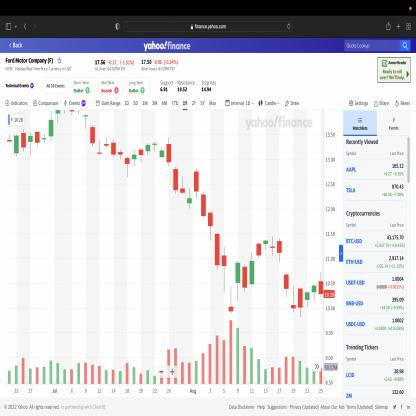Bearish 3 Black Crows: (200, 189, 221, 274), (192, 166, 214, 244)
Bullish Abandoned Baby: (221, 245, 242, 318)
